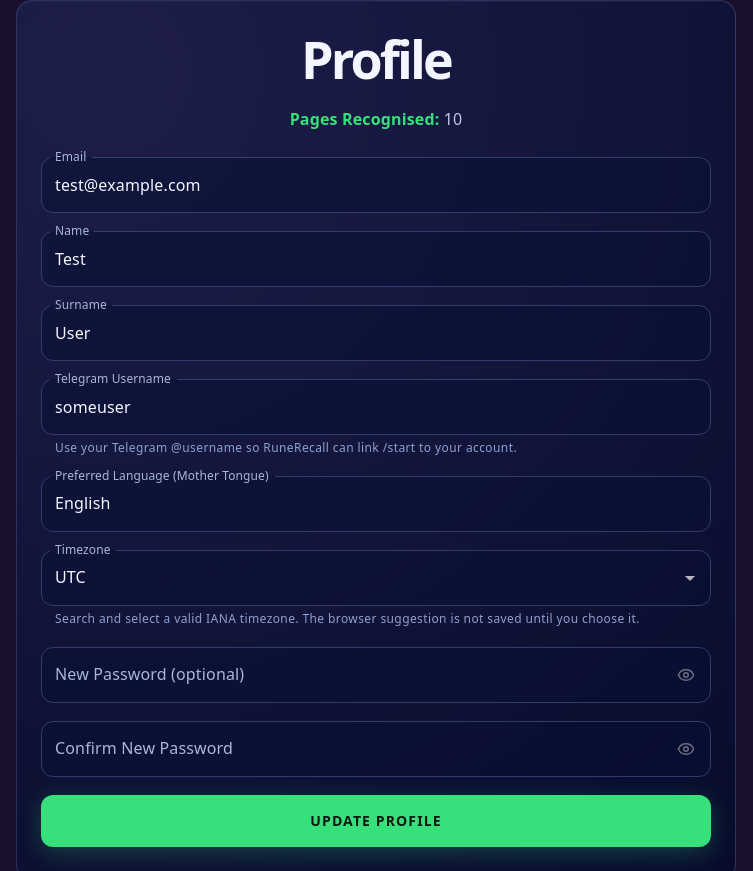
Test: Profile › handles successful profile update
Replace the text in the field labelled "Name" with "Updated" at (376, 259), box 41,231 -> 711,287
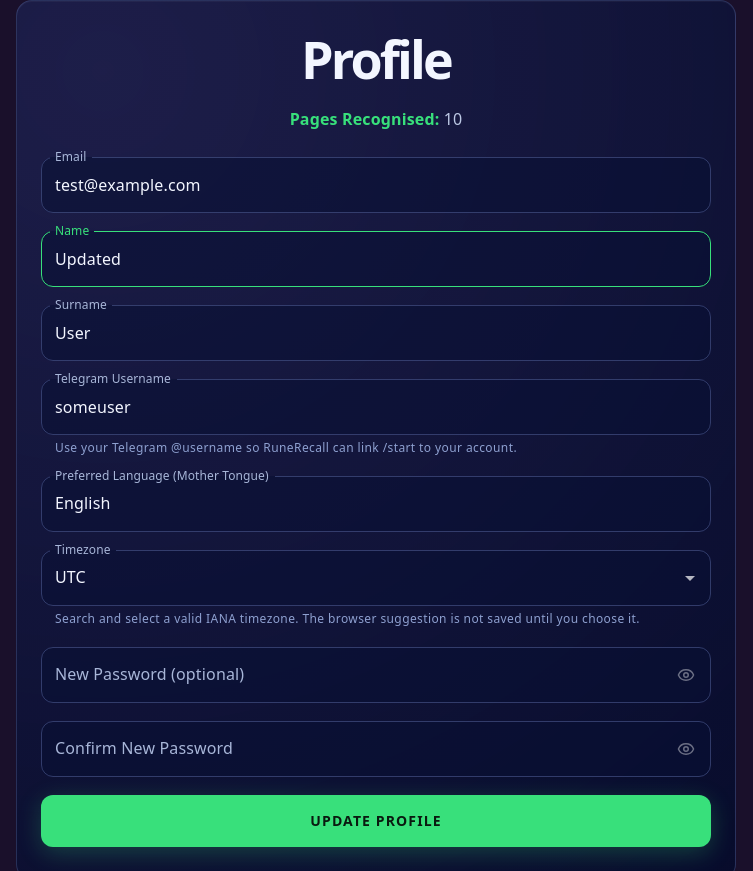
Replace the text in the field labelled "Surname" with "Name" at (376, 333), box 41,305 -> 711,361
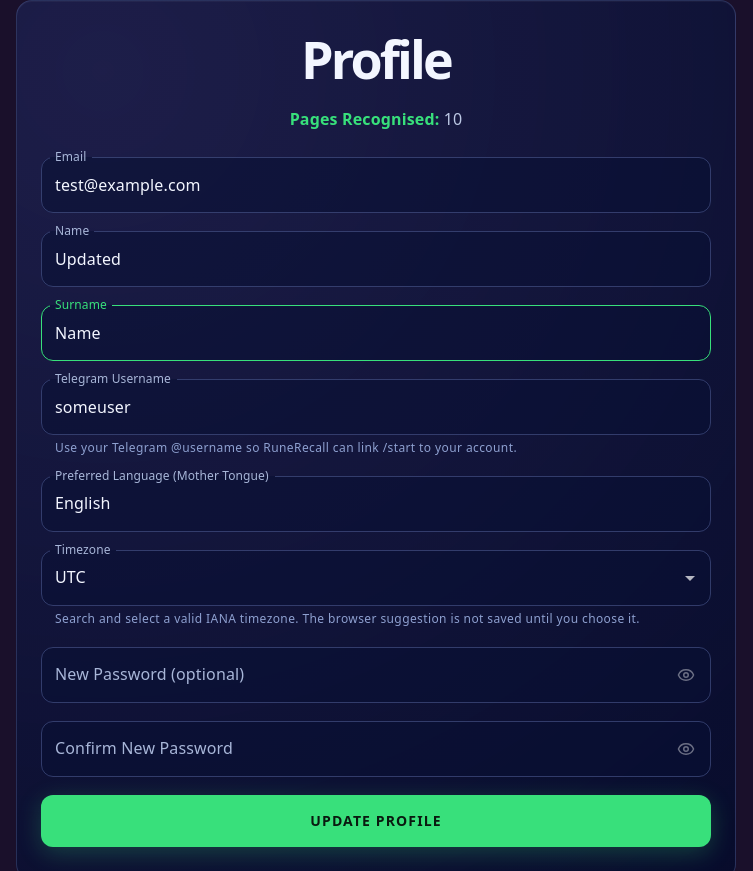
Replace the text in the dropdown labelled "Timezone" with "EST" at (361, 578), box 50,559 -> 672,597
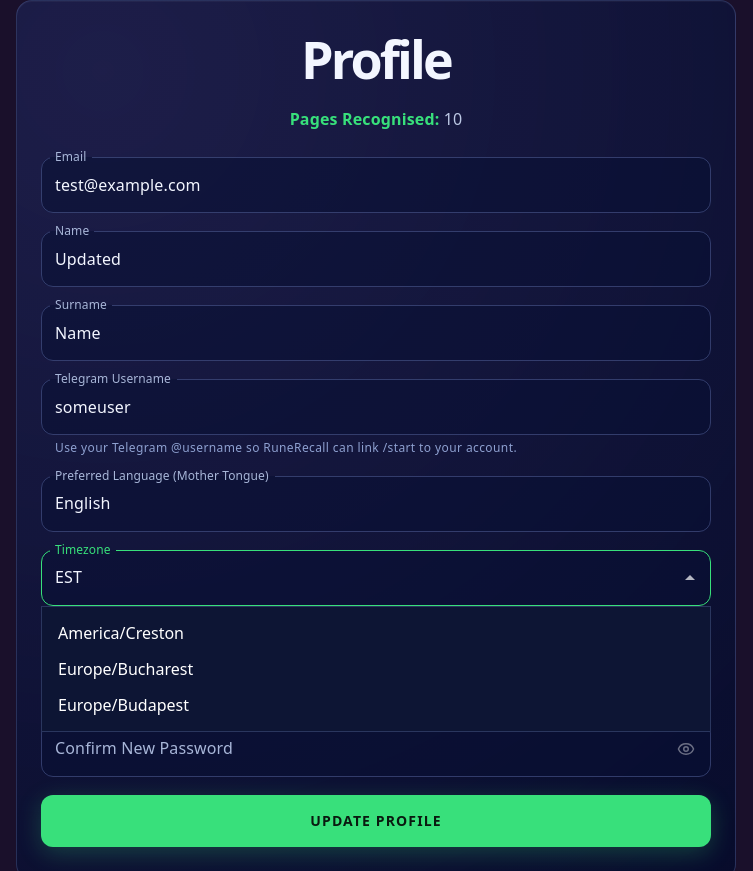
Click the button "Update Profile" at (376, 821), box 41,795 -> 711,847
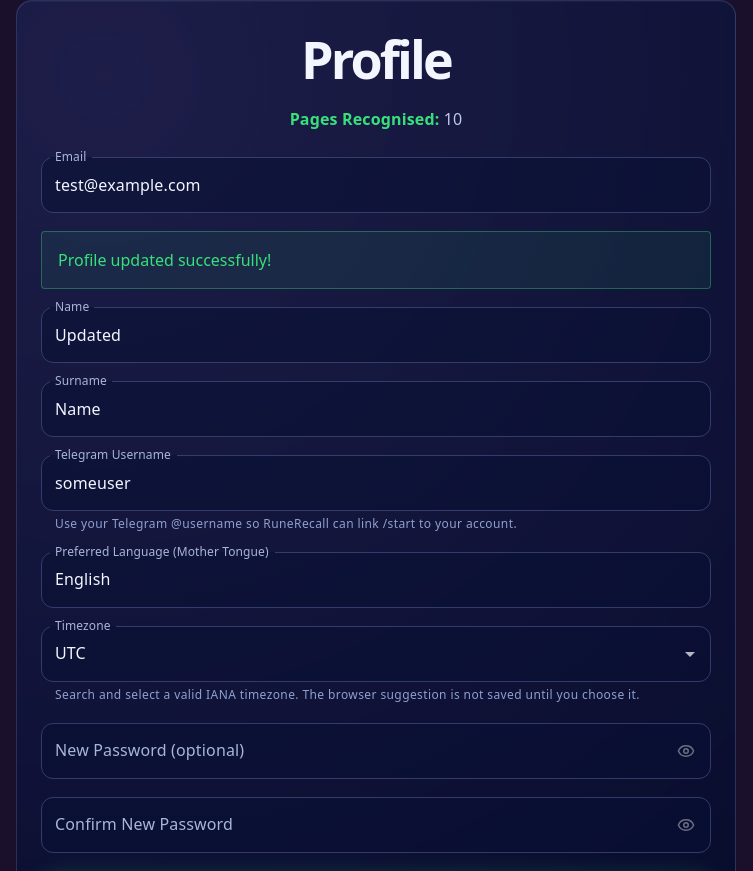
Expected: the text "Profile updated successfully!" is shown, 41,231 -> 711,289
